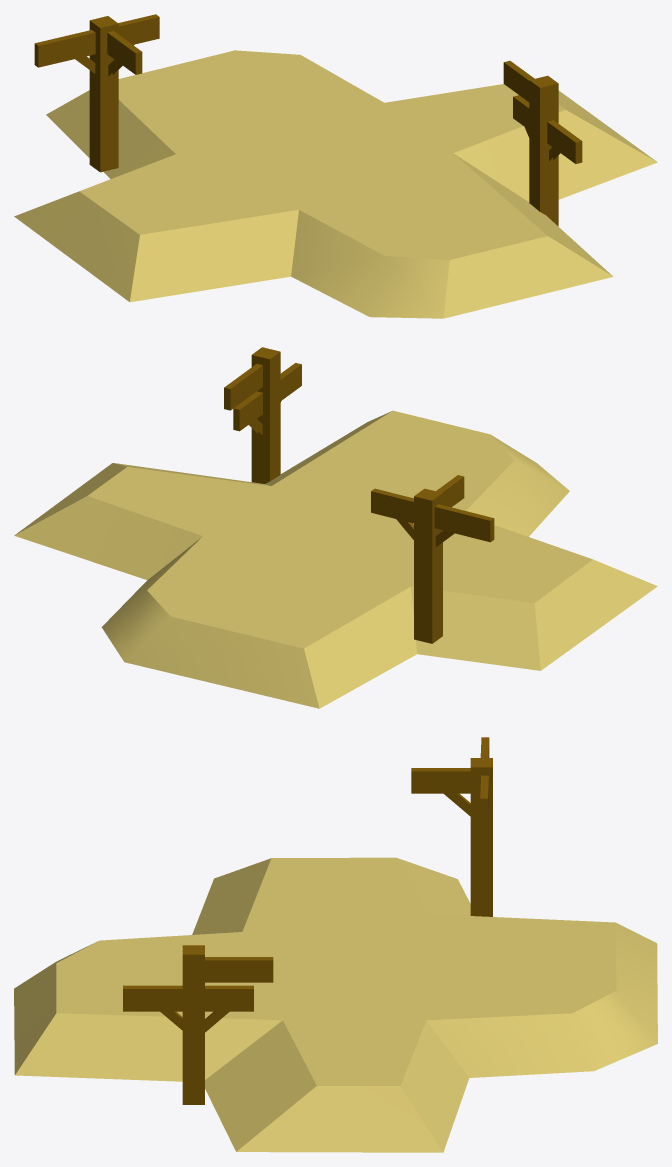
The model's file is FourWay.fbx.
3 views of the same model, one above another, from view 1: azimuth 30°, elevation 25°; view 2: azimuth 150°, elevation 25°; view 3: azimuth 270°, elevation 25° (orthographic). The views are drawn at different scales.
Visible parts, largest first — view 1: polySurface15; view 2: polySurface15; view 3: polySurface15.
Part boxes in pixels (x1,y1,x2,y2): polySurface15: (14, 14, 657, 318); polySurface15: (14, 347, 657, 708); polySurface15: (14, 737, 657, 1152).
Size of the model in its own units: 151 by 47.27 by 150.
Materials: 1 (1 with a texture image).
